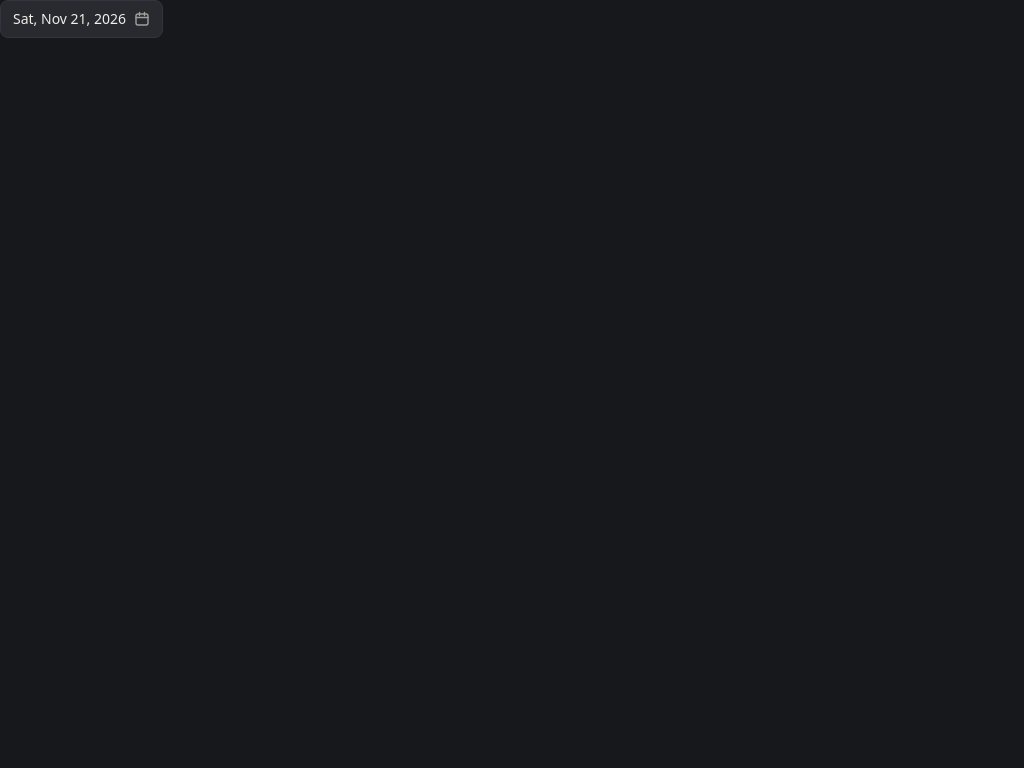
Test: DatePicker › moves with the keyboard and picks with Enter
Click the button with aria-label "Date" at (82, 19), box [0,0,163,38]
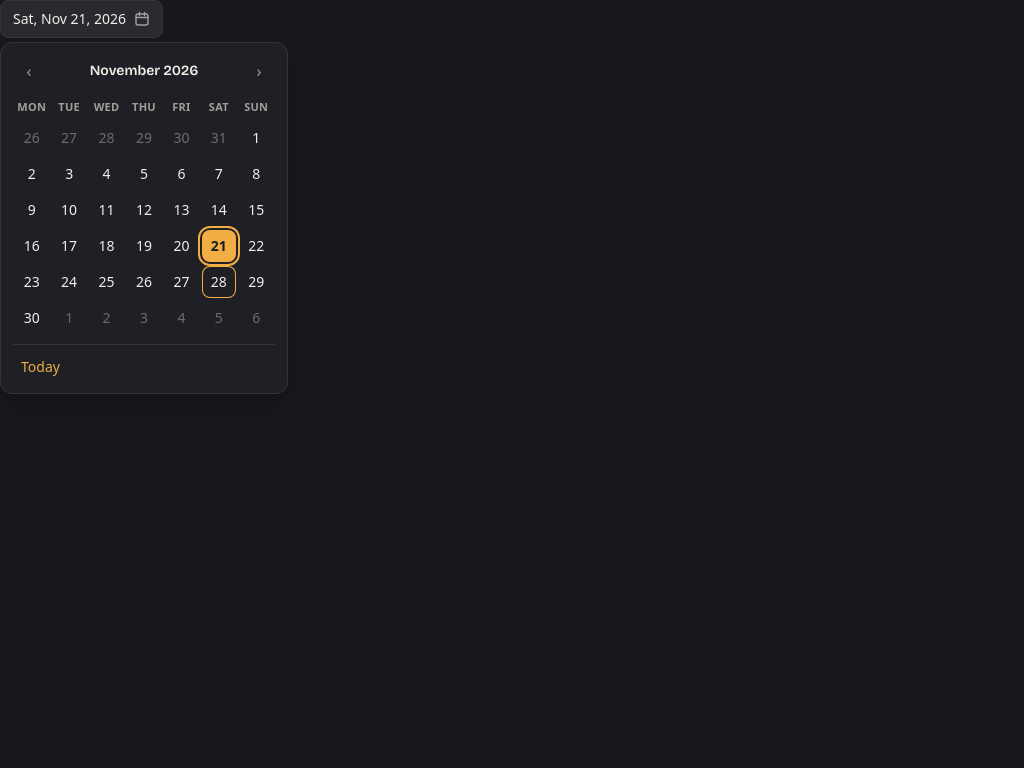
Press ArrowRight in the table, box [13,95,275,336]
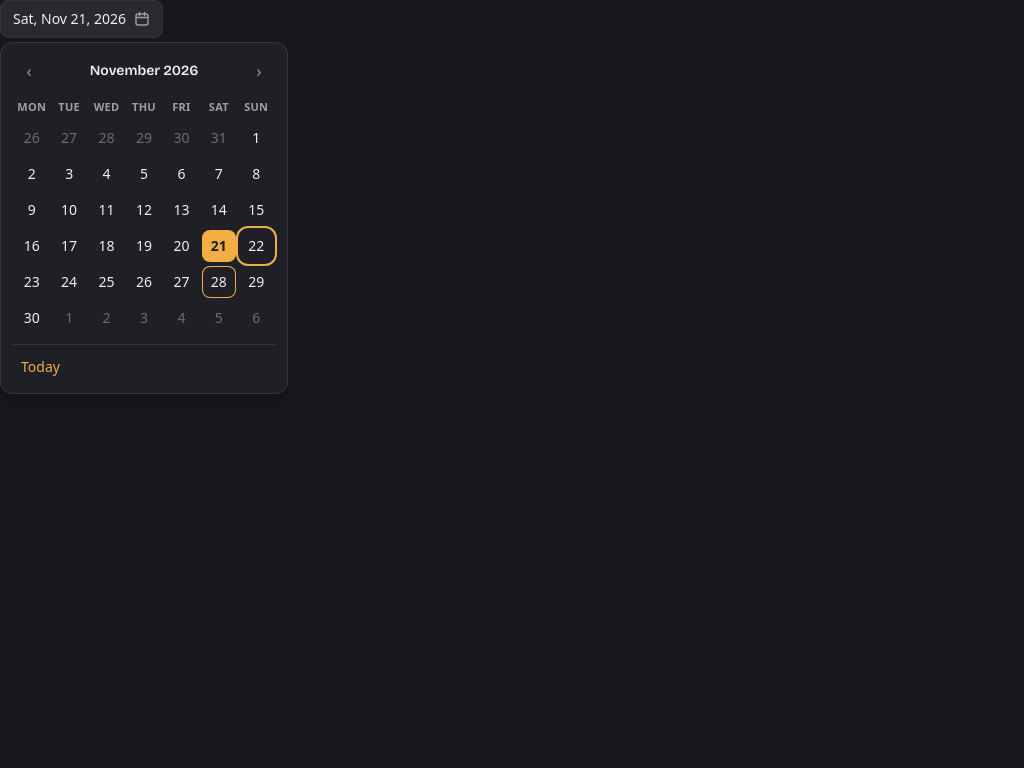
Press ArrowDown in the table, box [13,95,275,336]
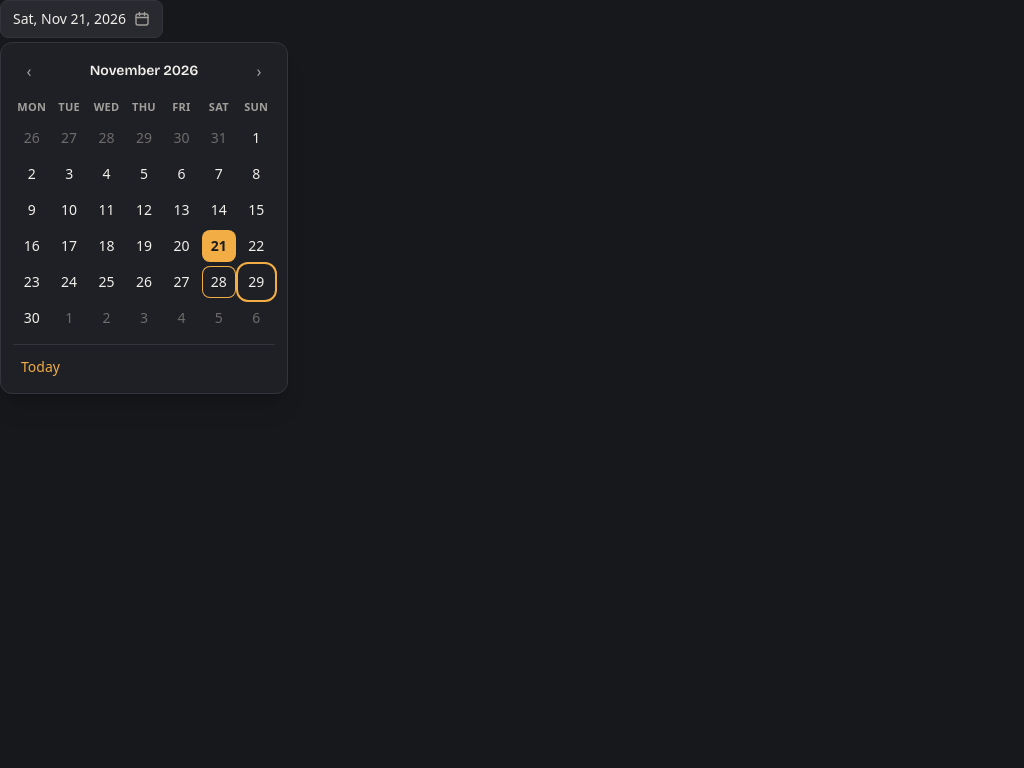
Press PageDown in the table, box [13,95,275,336]
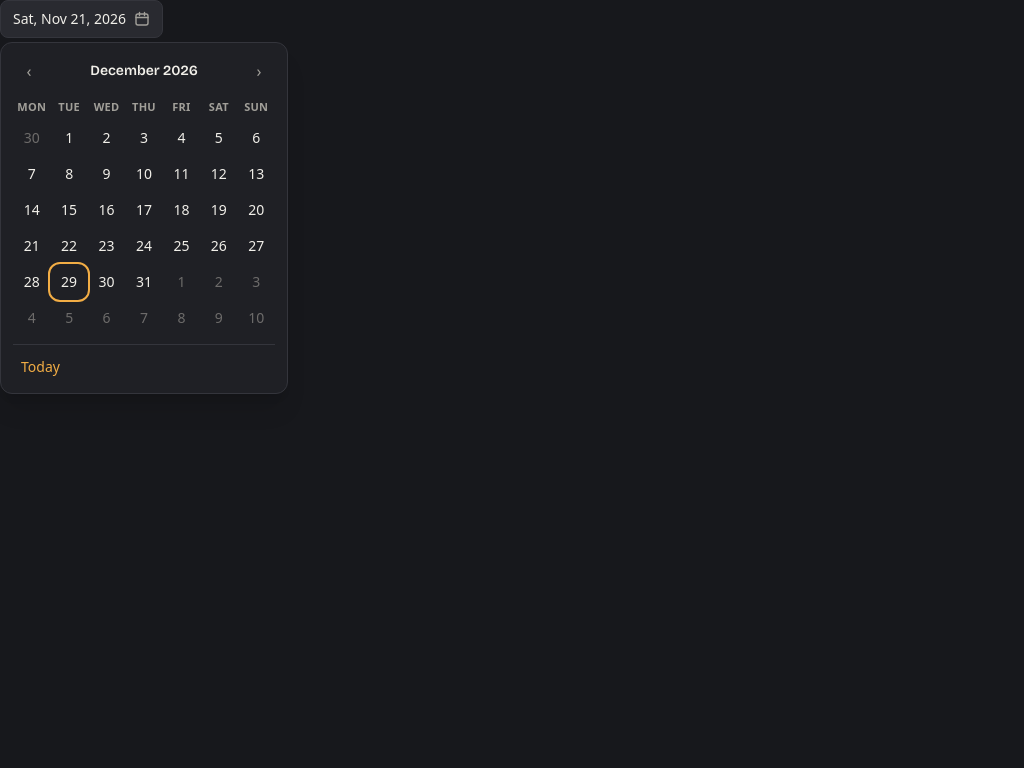
Press Enter in the table, box [13,95,275,336]
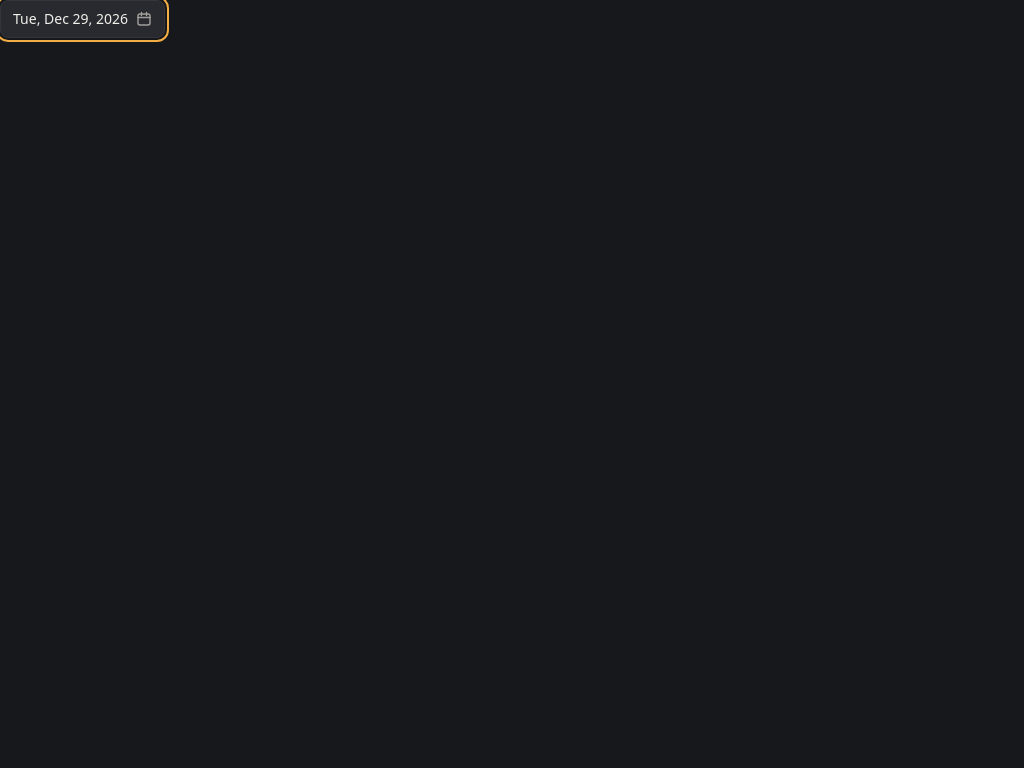
expect the dialog is gone: met
